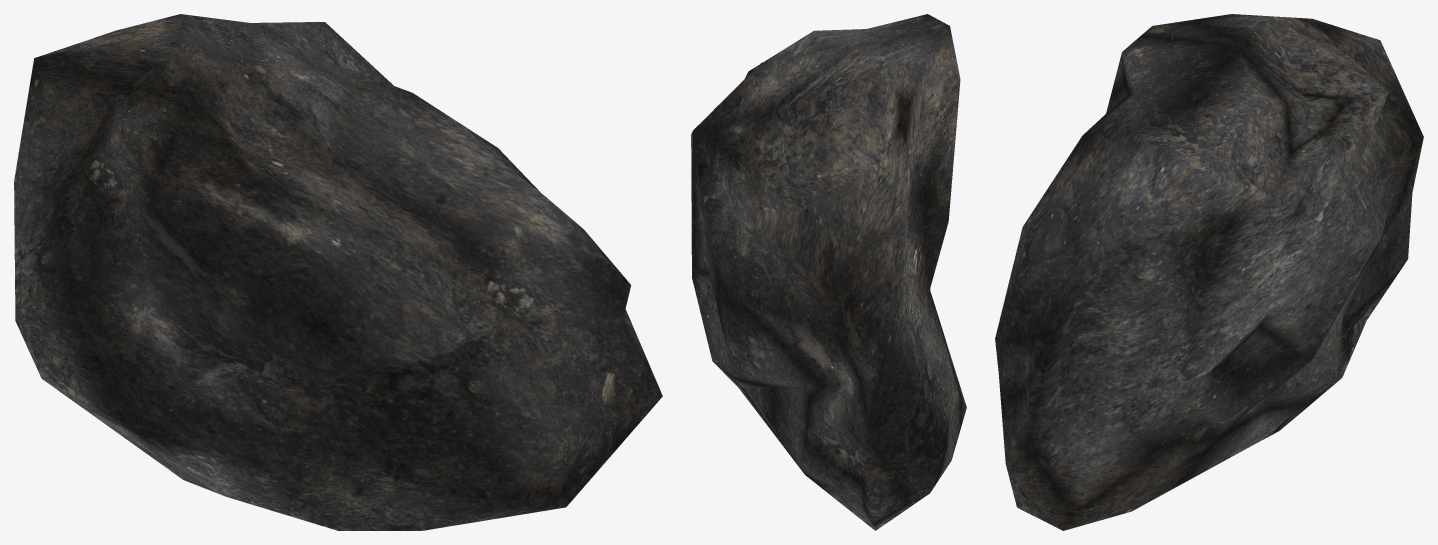
Rendered from asteroidB.FBX.
3 views of the same model, side by side, from view 1: azimuth 30°, elevation 25°; view 2: azimuth 150°, elevation 25°; view 3: azimuth 270°, elevation 25° (orthographic). The views are drawn at different scales.
Visible parts, largest first — view 1: asteroidLow; view 2: asteroidLow; view 3: asteroidLow.
Boxes of the visible parts, bbox=[...] form: asteroidLow: bbox=[14, 14, 662, 530]; asteroidLow: bbox=[691, 14, 966, 530]; asteroidLow: bbox=[995, 14, 1423, 530].
Size of the model in its own units: 29.97 by 31.5 by 28.73.
Materials: 1 (1 with a texture image).
